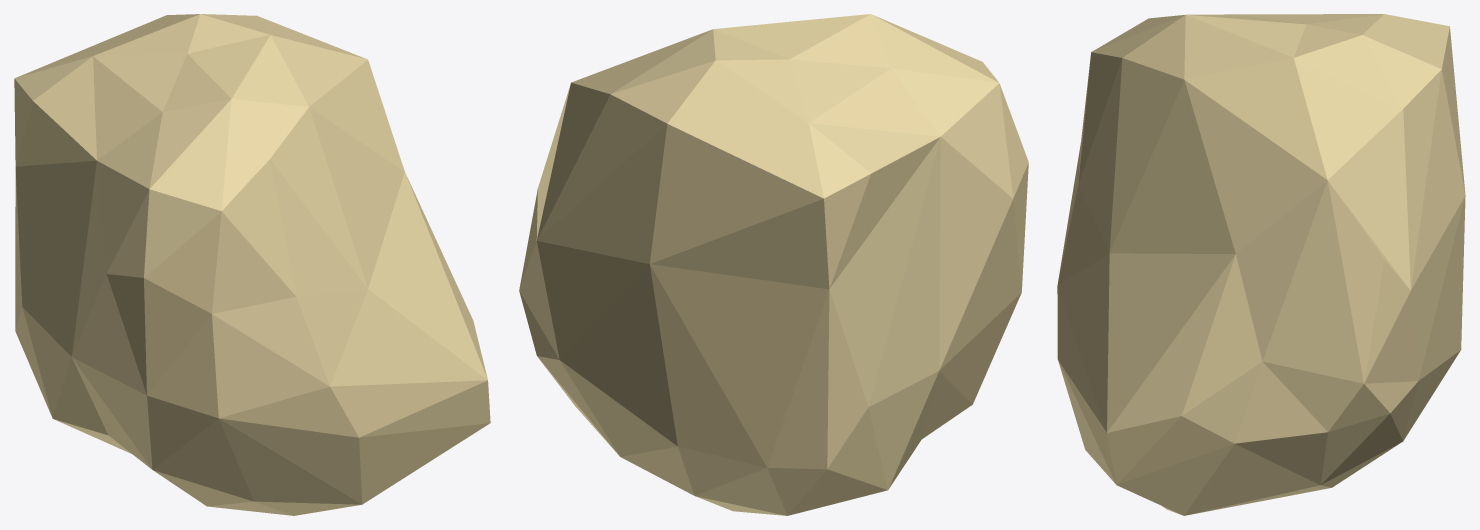
The model's file is Rock (82).fbx.
3 renders of one model, left to right at view 1: azimuth 30°, elevation 25°; view 2: azimuth 150°, elevation 25°; view 3: azimuth 270°, elevation 25°, orthographic. The views are drawn at different scales.
Visible parts, largest first — view 1: Asteroid81; view 2: Asteroid81; view 3: Asteroid81.
Boxes of the visible parts, x1=… form: Asteroid81: x1=14, y1=14, x2=490, y2=515; Asteroid81: x1=519, y1=14, x2=1028, y2=515; Asteroid81: x1=1057, y1=14, x2=1465, y2=515.
Bounding box in the file's own units: 70.18 × 79.56 × 65.65.
